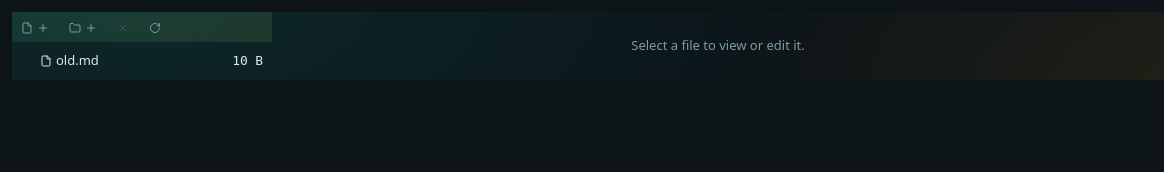
Test: ExplorerView — creating and renaming › renames on Enter and re-opens the file under its new path
expect the text "old.md" is shown: met, box [56,51,99,69]
Click the button with test id "explorer-item": (77, 60) [12,44,272,76]
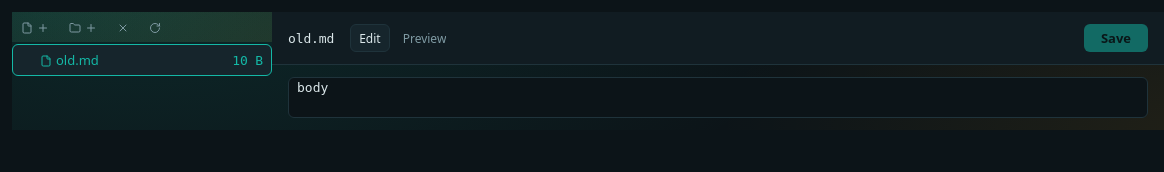
expect the text box is shown: met, box [288,77,1148,118]
Double-click the button with test id "explorer-item": (77, 60) [12,44,272,76]
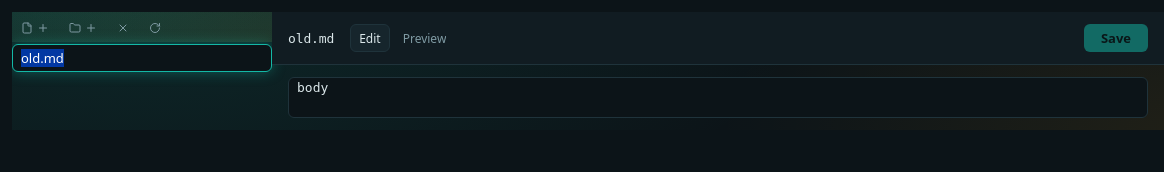
Replace the text in the field showing "old.md" with "new name.md": (142, 58) [12,44,272,72]
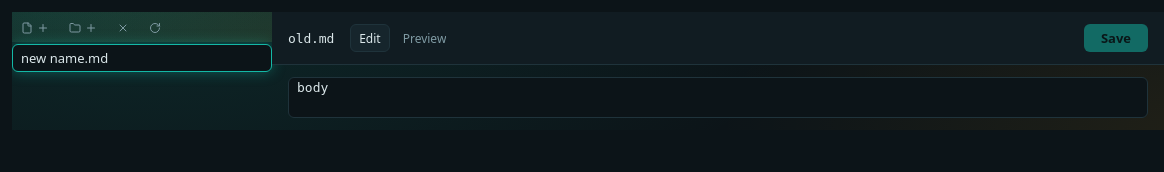
Press Enter in the field showing "old.md", box [12,44,272,72]
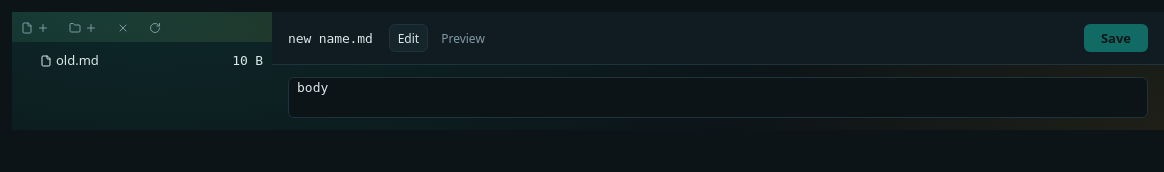
expect the text "new name.md" is shown: met, box [288,30,373,46]
